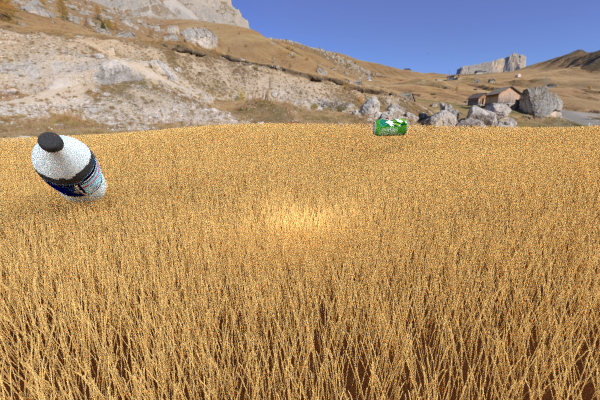bottle: (31, 131, 106, 204)
can: (372, 118, 407, 136)
